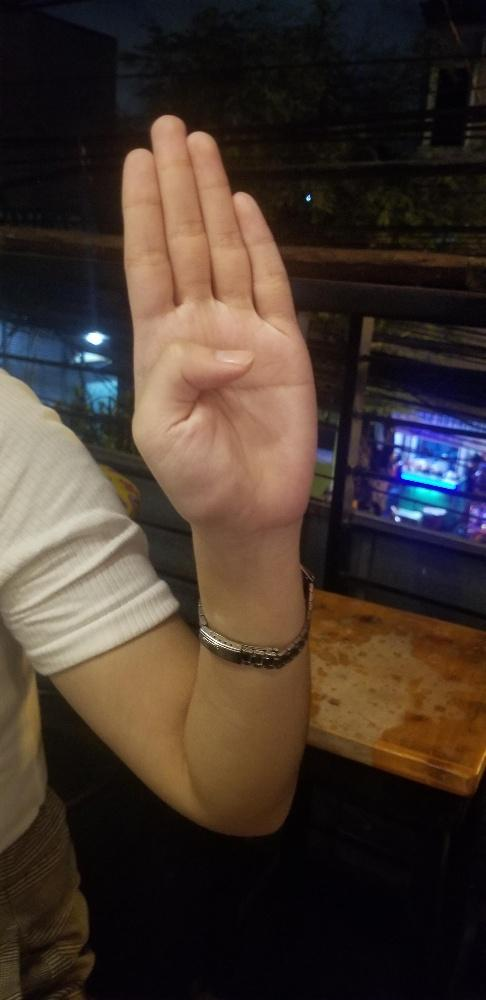b: (119, 112, 320, 525)
